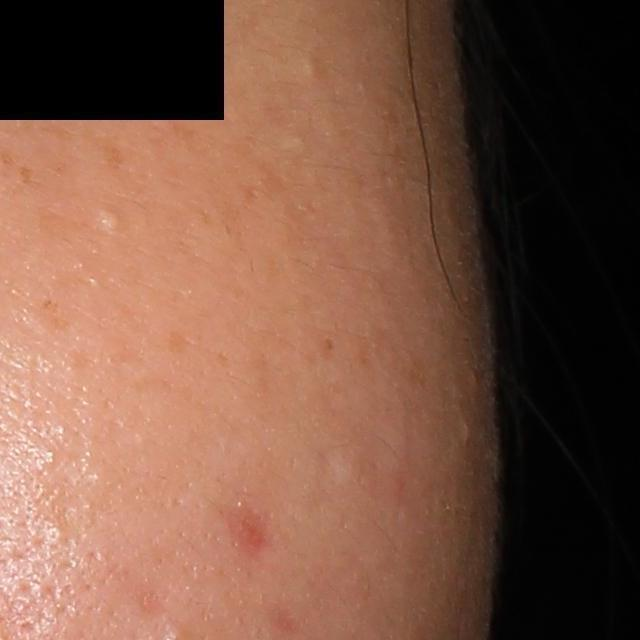comedo: (95, 206, 128, 236), (304, 51, 323, 77)
melasma: (157, 104, 208, 155), (201, 174, 245, 229), (89, 133, 128, 182), (19, 163, 41, 188)
